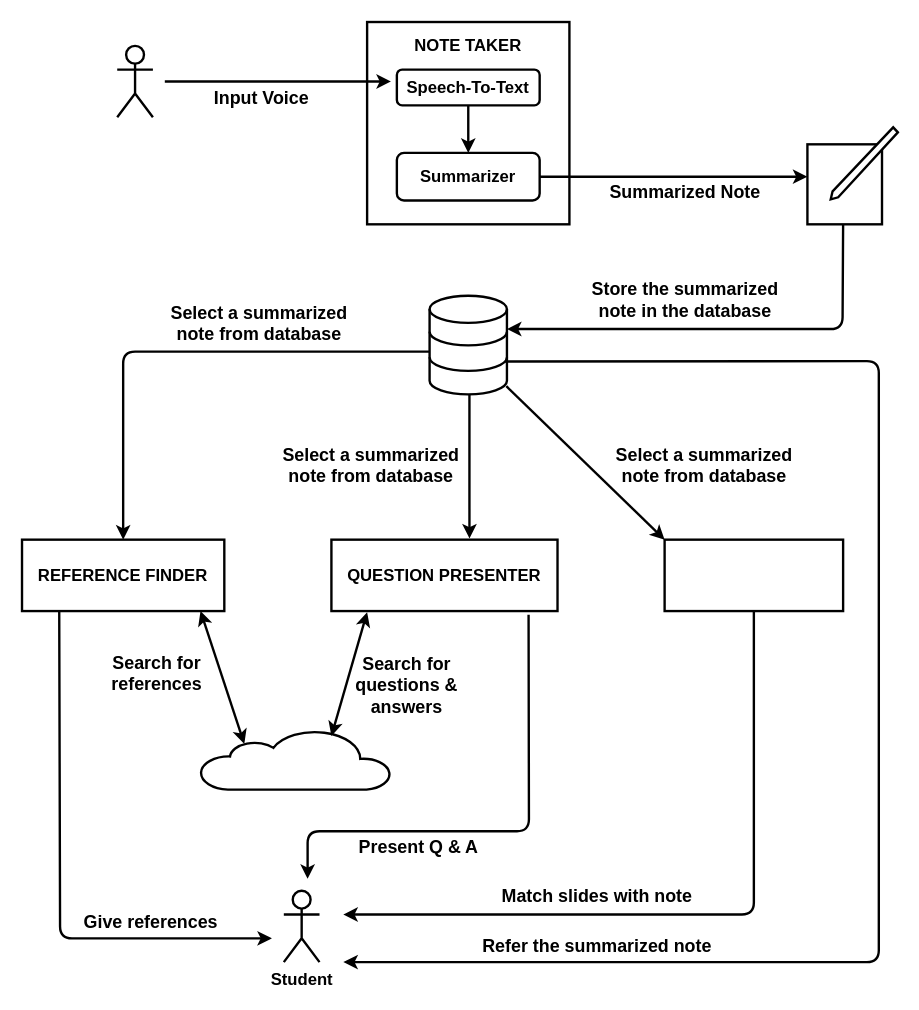
Image size: 919x1010. Some labels were removed from this diagram. The centre of each missing label's shape, as x and y in pixels:
Google: (x=295, y=759)
Lecturer: (x=134, y=81)
SLIDE MATCHER: (x=753, y=575)
